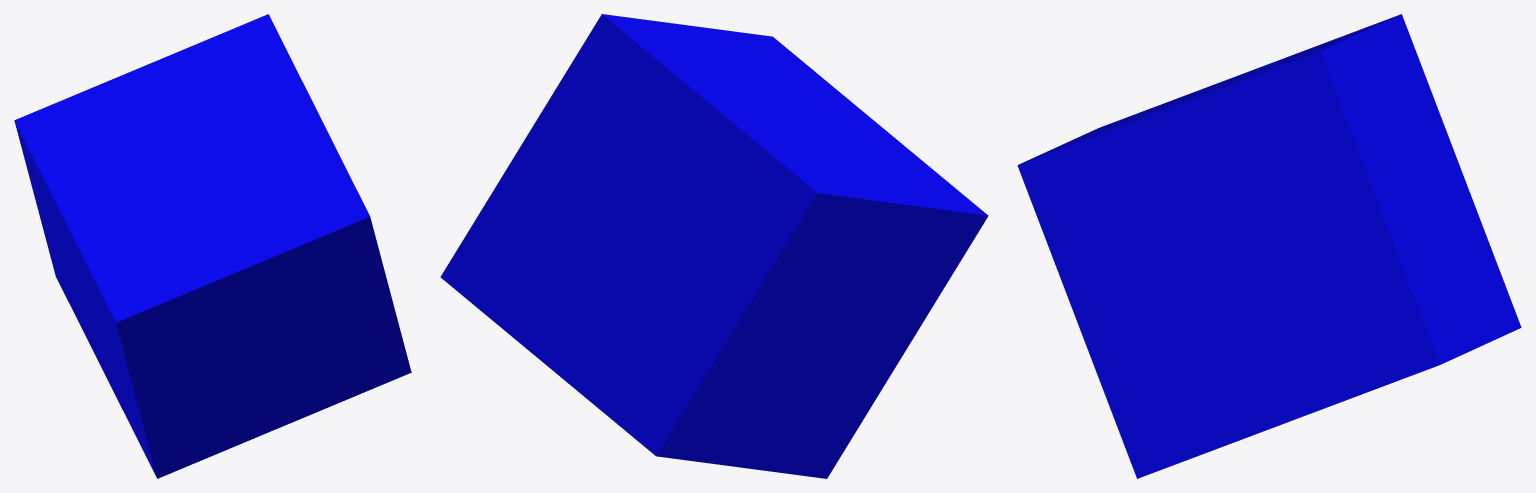
Rendered from Obj_BlueCube.glb.
The picture shows the model from 3 angles, left to right: view 1: azimuth 30°, elevation 25°; view 2: azimuth 150°, elevation 25°; view 3: azimuth 270°, elevation 25°; orthographic projection. The views are drawn at different scales.
Parts seen in each view (by area): view 1: Obj_BlueCube; view 2: Obj_BlueCube; view 3: Obj_BlueCube.
Part boxes in pixels (left/top/right/bottom): Obj_BlueCube: left=14, top=14, right=411, bottom=478; Obj_BlueCube: left=440, top=14, right=988, bottom=478; Obj_BlueCube: left=1017, top=14, right=1521, bottom=478.
Size of the model in its own units: 0.1676 by 0.1897 by 0.1801.
